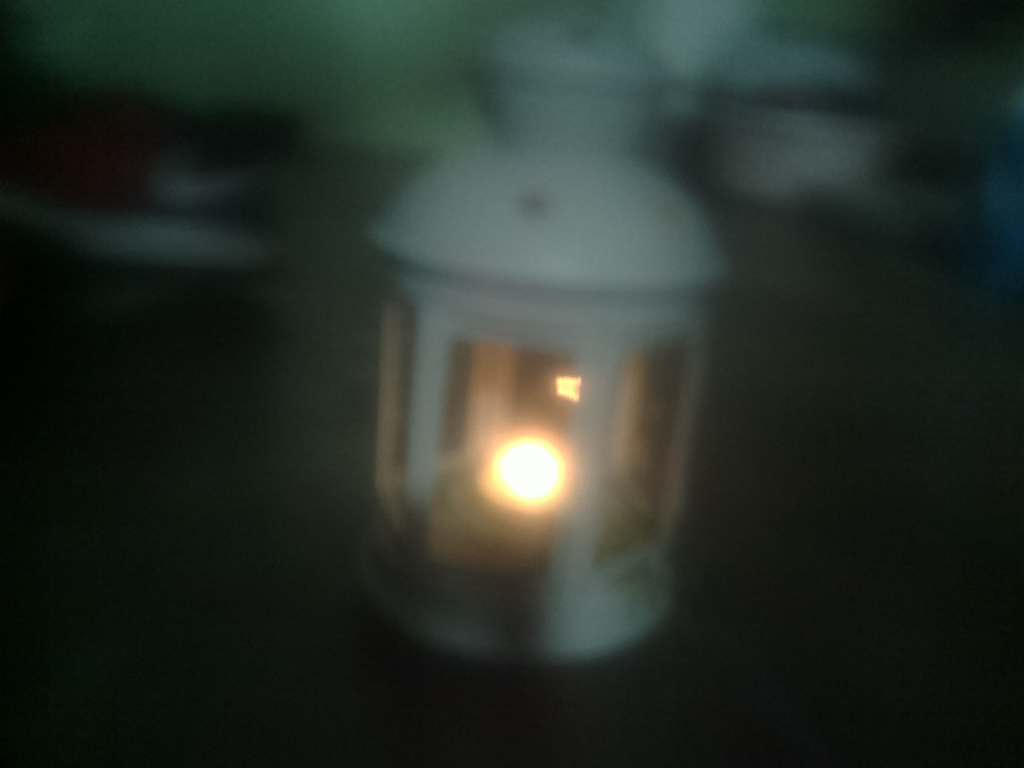fire: (450, 425, 581, 536)
